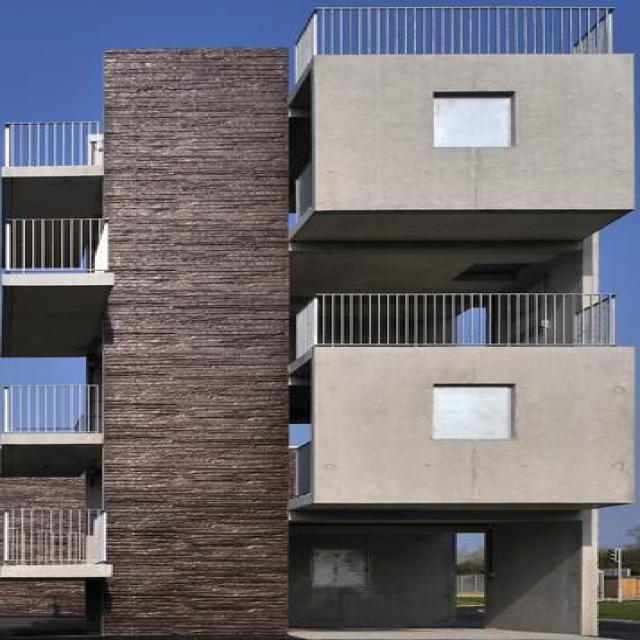Railing: (293, 8, 613, 88), (295, 293, 619, 361), (6, 221, 114, 275), (3, 510, 104, 564), (3, 386, 104, 434), (8, 122, 107, 165)
wall: (0, 7, 638, 637)
windows: (434, 385, 516, 440), (433, 96, 518, 147)
